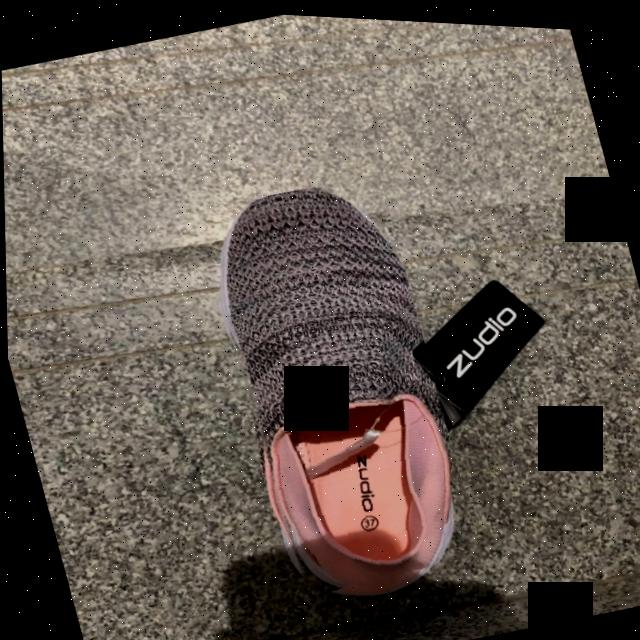shoe: (217, 184, 448, 572)
